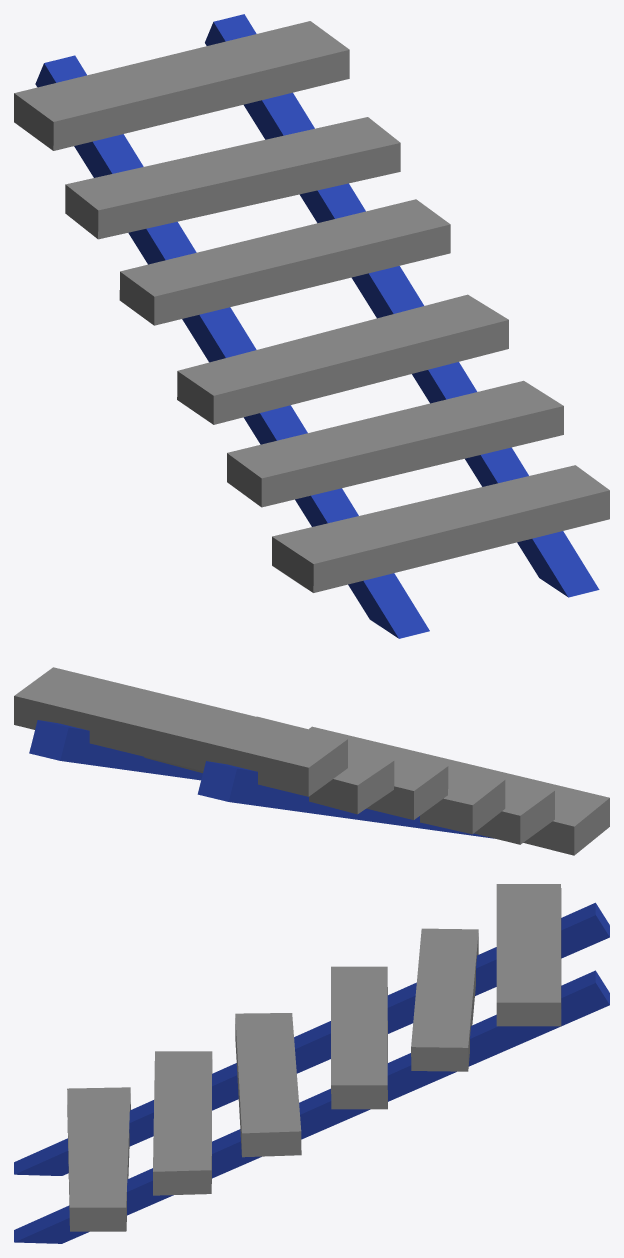
The model's file is Dock_Stairs_mm.fbx.
3 renders of one model, top to bottom at view 1: azimuth 30°, elevation 25°; view 2: azimuth 150°, elevation 25°; view 3: azimuth 270°, elevation 25°, orthographic. The views are drawn at different scales.
Visible parts, largest first — view 1: Dock_Stairs; view 2: Dock_Stairs; view 3: Dock_Stairs.
Boxes of the visible parts, left/top/right/bottom form: Dock_Stairs: left=14, top=14, right=609, bottom=638; Dock_Stairs: left=14, top=667, right=609, bottom=855; Dock_Stairs: left=14, top=884, right=609, bottom=1243.
Size of the model in its own units: 166 by 166 by 343.
